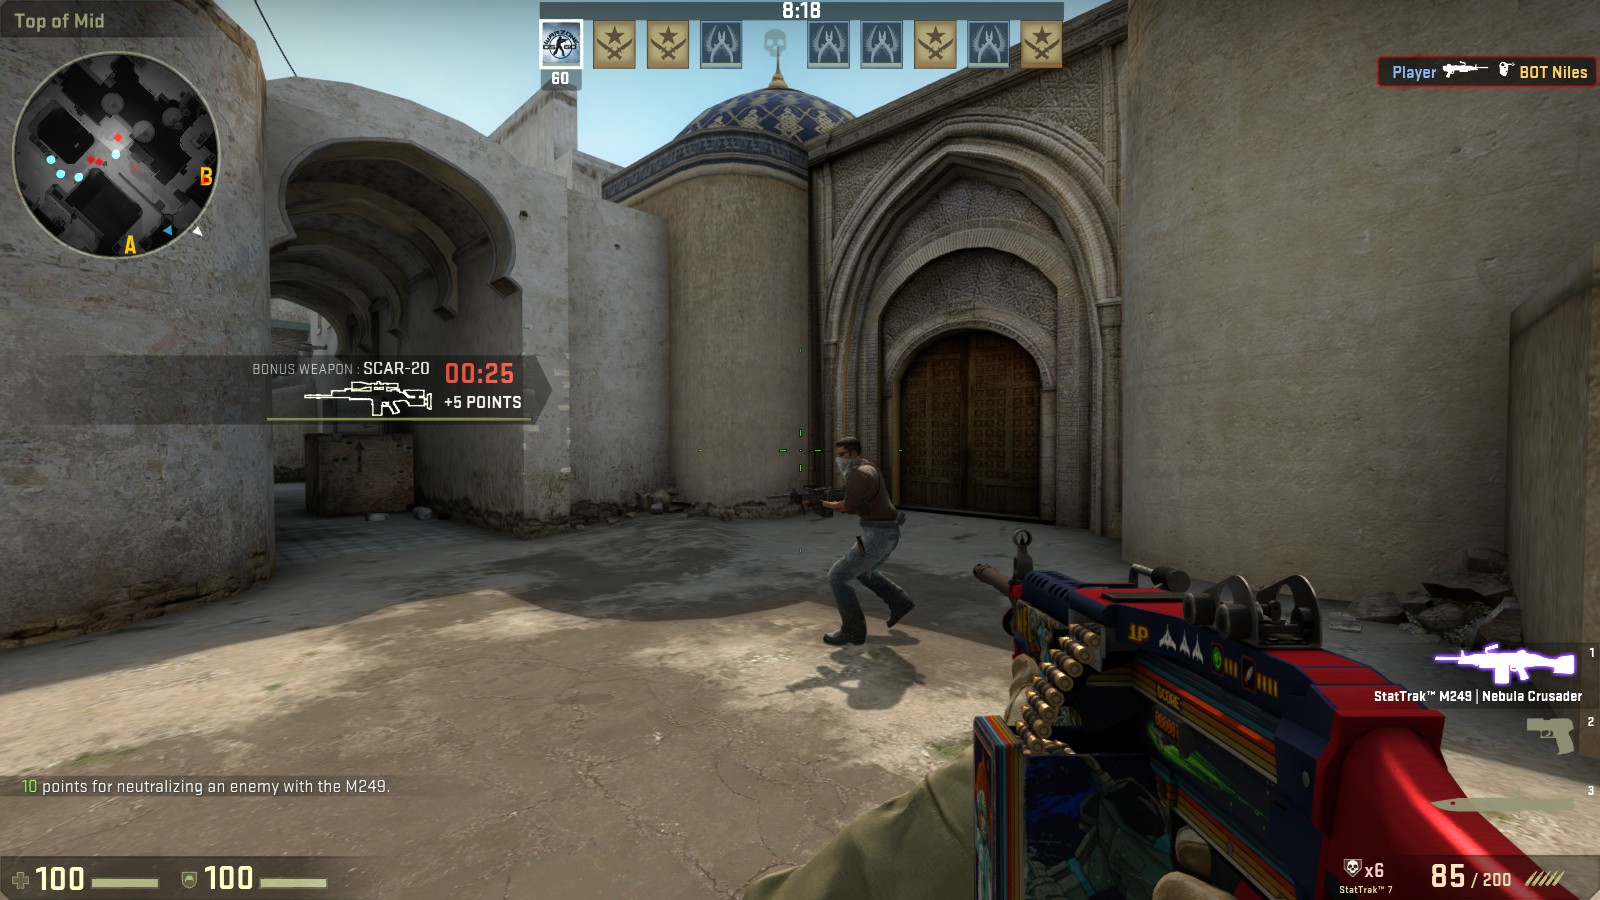t: (811, 436, 905, 647)
th: (831, 438, 866, 476)
